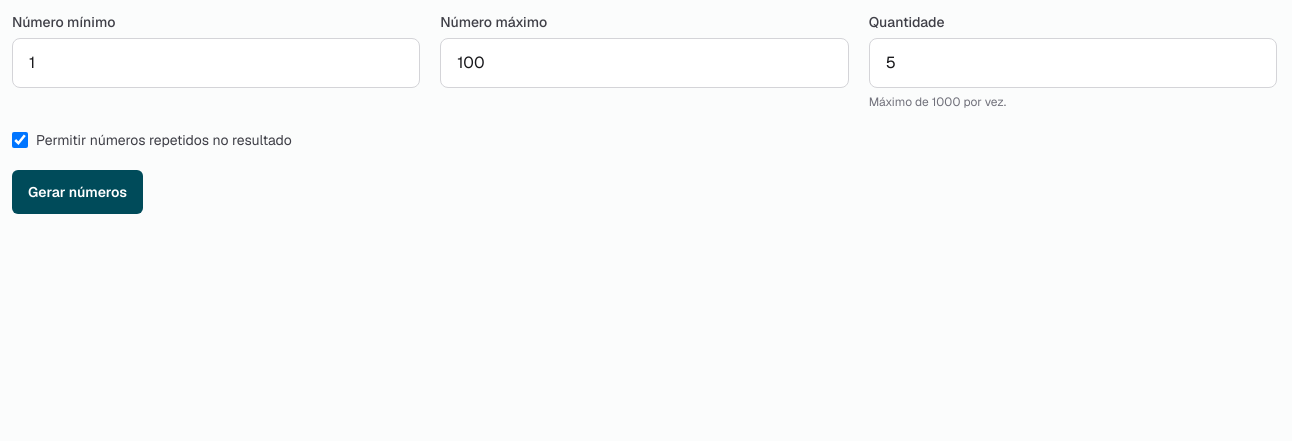
Scenario: RandomNumberGeneratorTool › copia o resultado e mostra feedback acessível
Step 1. Click the button "Gerar números" → {"x": 78, "y": 192}, box [12,170,143,214]
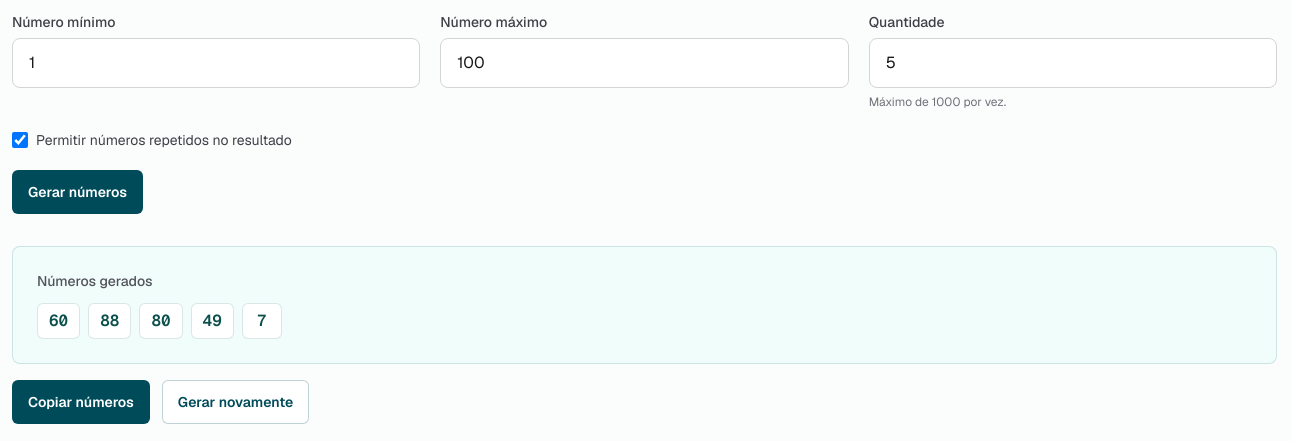
Step 2. Click the button "Copiar números" → {"x": 81, "y": 402}, box [12,380,150,424]
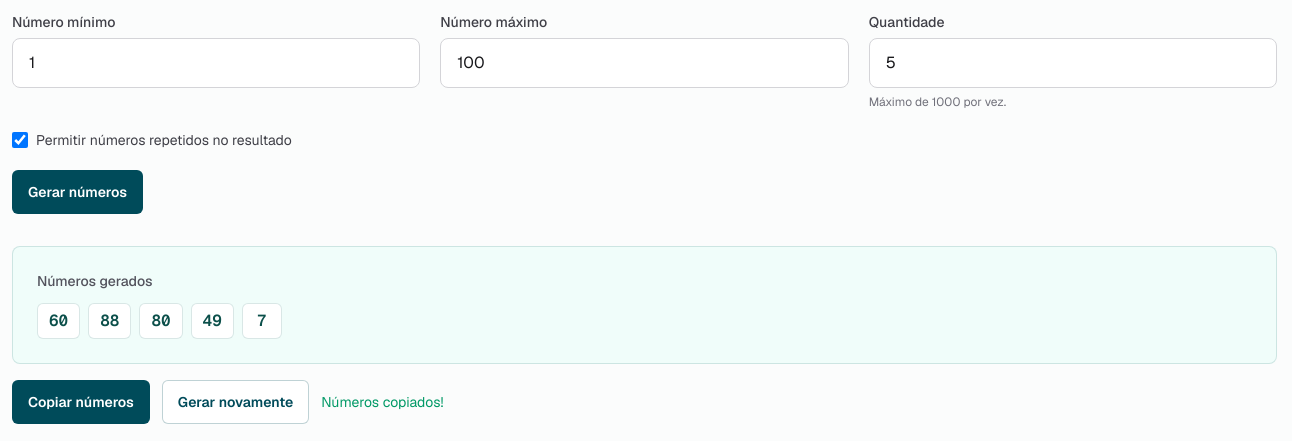
Check: the message reads "Números copiados!", box [321,393,443,411]
